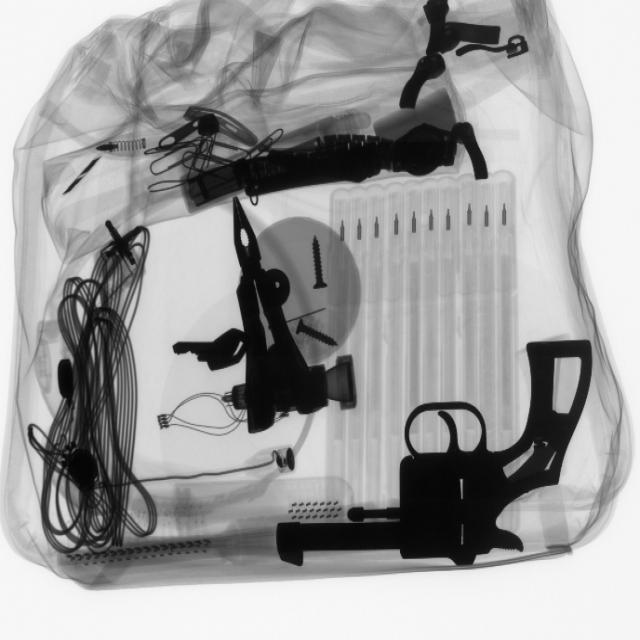BLADE: (174, 316, 250, 374)
GUN: (270, 333, 592, 563)
SCREW: (294, 226, 340, 297), (292, 308, 352, 355)
